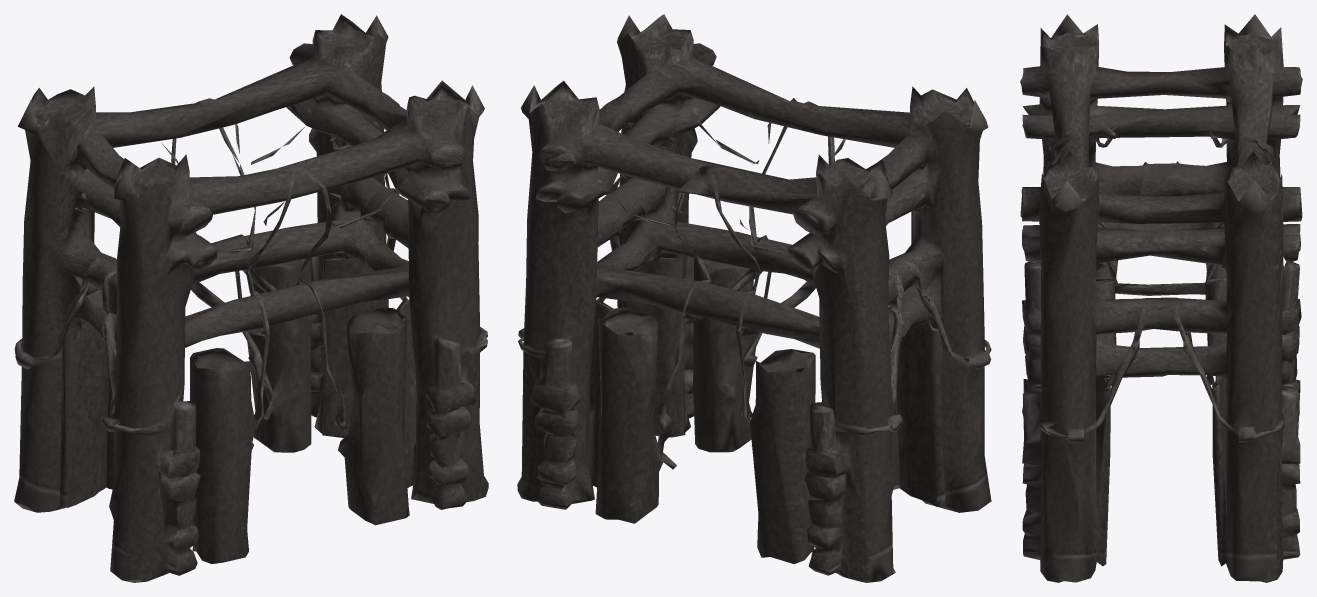
Rendered from prp_lm_palisade_gate.glb.
The picture shows the model from 3 angles, left to right: view 1: azimuth 30°, elevation 25°; view 2: azimuth 150°, elevation 25°; view 3: azimuth 270°, elevation 25°; orthographic projection.
Parts seen in each view (by area): view 1: prp_lm_palisade_gate; view 2: prp_lm_palisade_gate; view 3: prp_lm_palisade_gate.
Boxes of the visible parts, x1,y1,x2,y2 form: prp_lm_palisade_gate: [14, 14, 488, 582]; prp_lm_palisade_gate: [517, 14, 991, 582]; prp_lm_palisade_gate: [1020, 14, 1302, 582].
Size of the model in its own units: 6.87 by 7 by 4.48.
1 material, 1 textured.
